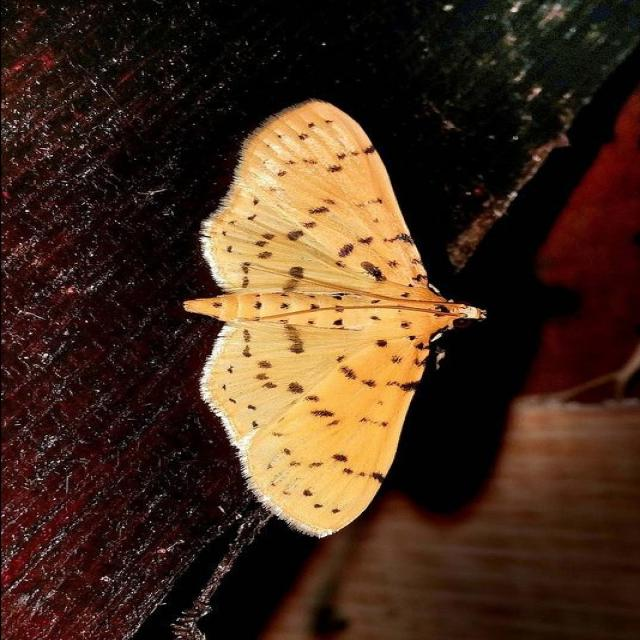peach borer: (184, 97, 492, 545)
